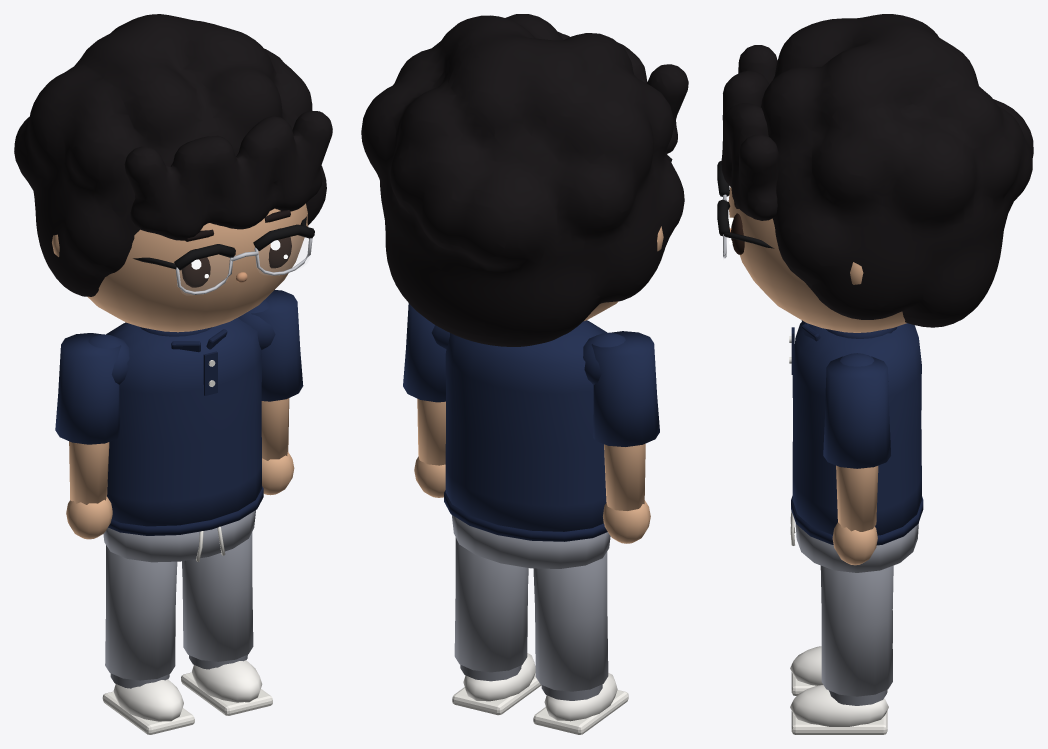
Rendered from joung_date.glb.
The picture shows the model from 3 angles, left to right: view 1: azimuth 30°, elevation 25°; view 2: azimuth 150°, elevation 25°; view 3: azimuth 270°, elevation 25°; orthographic projection. The views are drawn at different scales.
Parts seen in each view (by area): view 1: joung_hair_main.001, joung_polo_body, joung_hair_fringe.001, joung_head.001, joung_legR.001, joung_legL.001, joung_sleeveR.001, joung_sleeveL.001, joung_hips.001, joung_armR.001, joung_shoeL.001, joung_shoeR.001 (+12 smaller); view 2: joung_hair_main.001, joung_polo_body, joung_legR.001, joung_legL.001, joung_sleeveR.001, joung_hips.001, joung_sleeveL.001, joung_armR.001, joung_hair_fringe.001, joung_armL.001, joung_hem, joung_shoeR.001 (+8 smaller); view 3: joung_hair_main.001, joung_polo_body, joung_legL.001, joung_hair_fringe.001, joung_sleeveL.001, joung_head.001, joung_armL.001, joung_shoeL.001, joung_hips.001, joung_handL.001, joung_soleL.001, joung_hem (+2 smaller).
Boxes of the visible parts, x1,y1,x2,y2 form: joung_hair_main.001: [14, 14, 326, 296]; joung_polo_body: [106, 317, 261, 526]; joung_hair_fringe.001: [124, 110, 332, 240]; joung_head.001: [87, 203, 308, 332]; joung_legR.001: [105, 545, 177, 680]; joung_legL.001: [182, 532, 253, 661]; joung_sleeveR.001: [55, 333, 121, 444]; joung_sleeveL.001: [251, 290, 303, 401]; joung_hips.001: [103, 510, 255, 562]; joung_armR.001: [69, 441, 109, 504]; joung_shoeL.001: [192, 660, 262, 702]; joung_shoeR.001: [113, 679, 183, 721]; joung_hair_main.001: [361, 14, 684, 346]; joung_polo_body: [445, 320, 607, 531]; joung_legR.001: [533, 551, 608, 691]; joung_legL.001: [454, 537, 528, 672]; joung_sleeveR.001: [591, 331, 659, 446]; joung_hips.001: [452, 515, 610, 568]; joung_sleeveL.001: [403, 303, 446, 402]; joung_armR.001: [604, 443, 645, 510]; joung_hair_fringe.001: [558, 32, 688, 153]; joung_armL.001: [417, 398, 445, 465]; joung_hem: [444, 490, 607, 541]; joung_shoeR.001: [544, 673, 617, 721]; joung_hair_main.001: [761, 14, 1033, 327]; joung_polo_body: [792, 322, 921, 535]; joung_legL.001: [820, 565, 893, 696]; joung_hair_fringe.001: [721, 45, 778, 220]; joung_sleeveL.001: [823, 356, 890, 468]; joung_head.001: [728, 187, 906, 332]; joung_armL.001: [836, 465, 878, 531]; joung_shoeL.001: [790, 685, 888, 726]; joung_hips.001: [795, 523, 918, 572]; joung_handL.001: [832, 522, 877, 565]; joung_soleL.001: [791, 710, 887, 734]; joung_hem: [791, 496, 923, 545].
Bounding box in the file's own units: 0.5916 × 1.48 × 0.6263.
